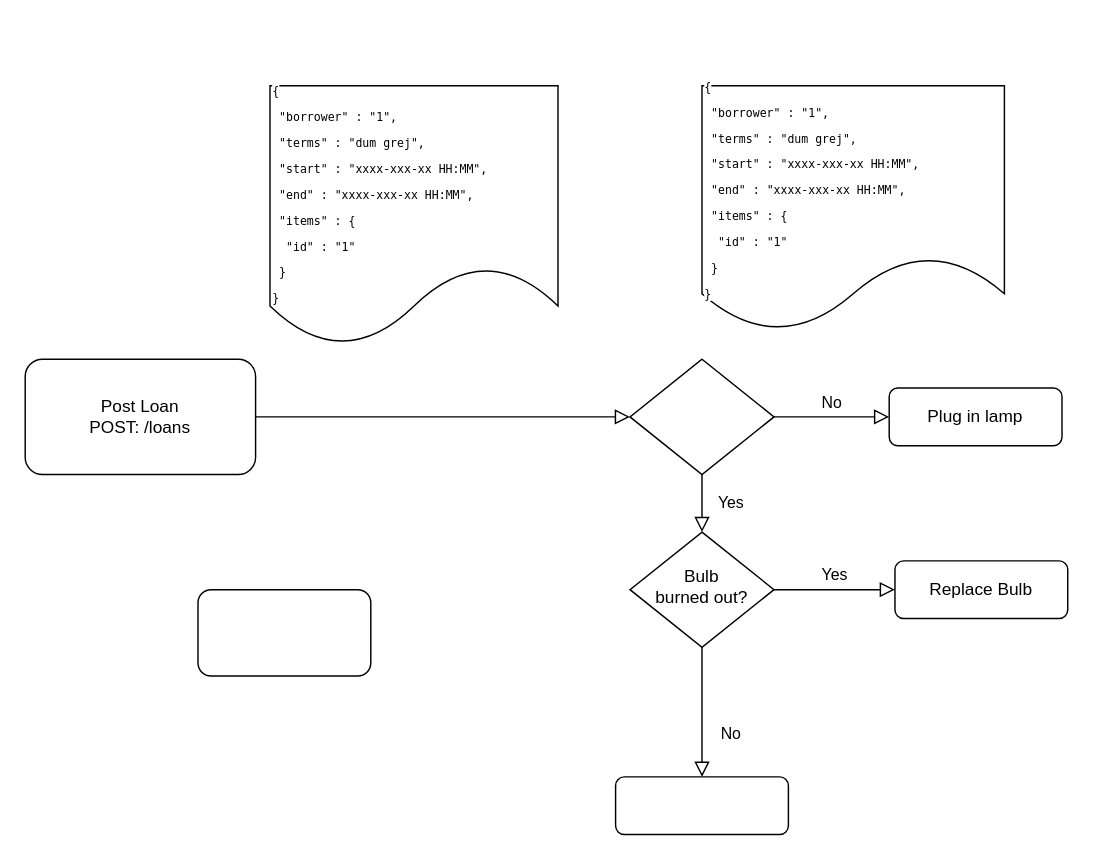
This 1093x860 diagram has some shape labels left out. The centre of each missing label's shape, as x and y in pixels:
Add item to loans: the point at 284,632
Is loan: the point at 701,416
Repair Lamp: the point at 701,804
